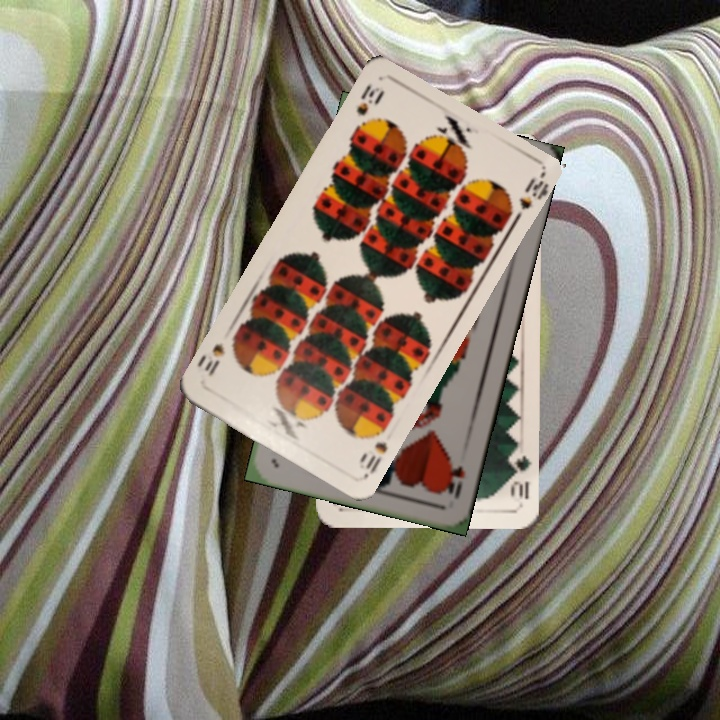G10: (506, 451, 533, 502)
HO: (440, 457, 468, 501)
S10: (355, 421, 390, 479), (351, 80, 387, 119)
